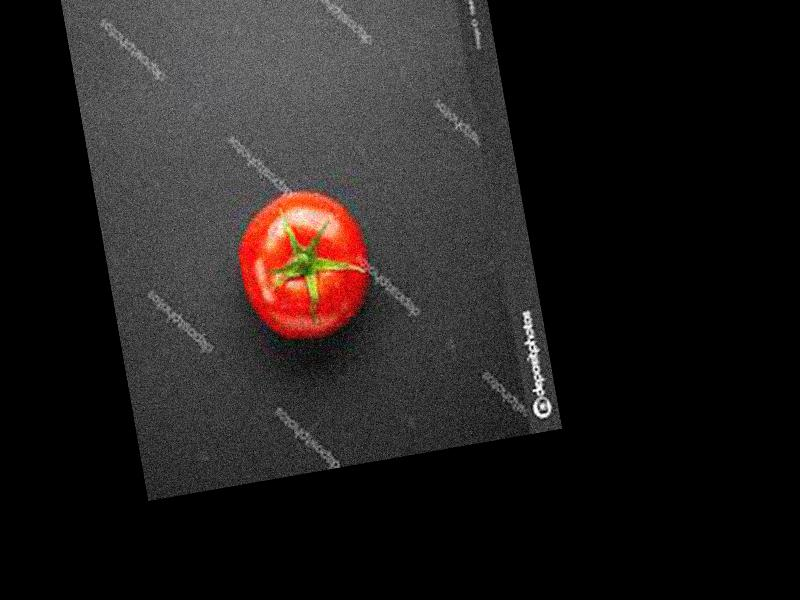Tomato: (227, 179, 380, 347)
